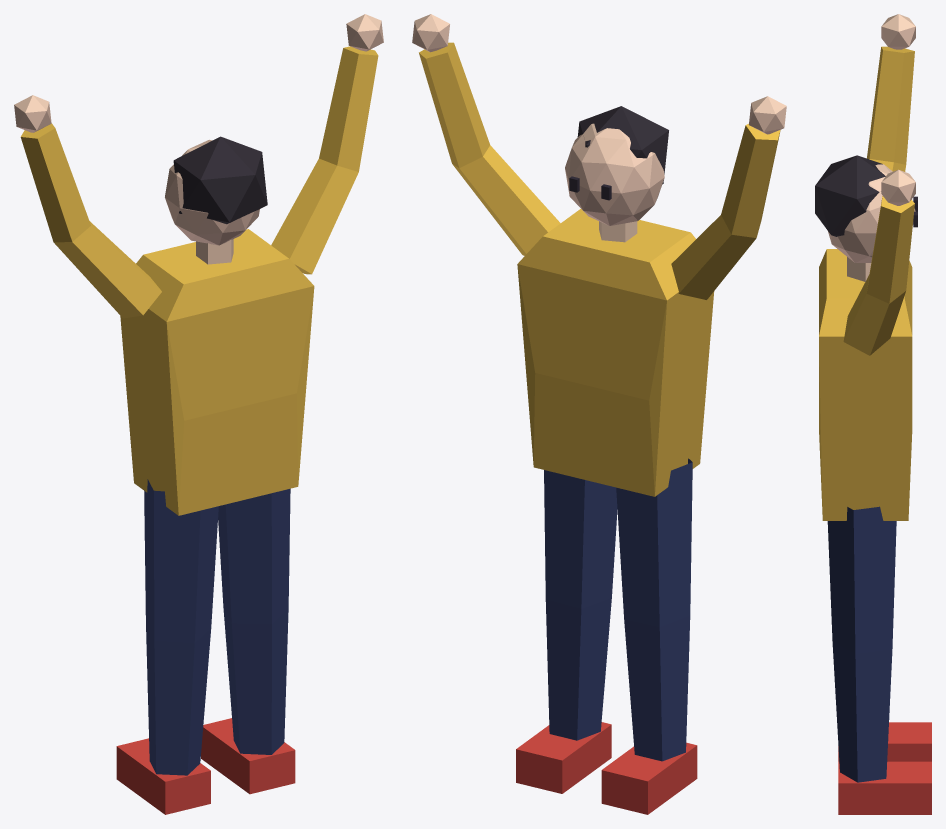
File: spectator_b.glb
The picture shows the model from 3 angles, left to right: view 1: azimuth 30°, elevation 25°; view 2: azimuth 150°, elevation 25°; view 3: azimuth 270°, elevation 25°; orthographic projection. The views are drawn at different scales.
Visible parts, largest first — view 1: spectator_b; view 2: spectator_b; view 3: spectator_b.
Boxes of the visible parts, x1,y1,x2,y2 form: spectator_b: [14, 14, 383, 814]; spectator_b: [412, 14, 786, 814]; spectator_b: [815, 14, 931, 814].
Size of the model in its own units: 1.04 by 1.96 by 0.2998.
